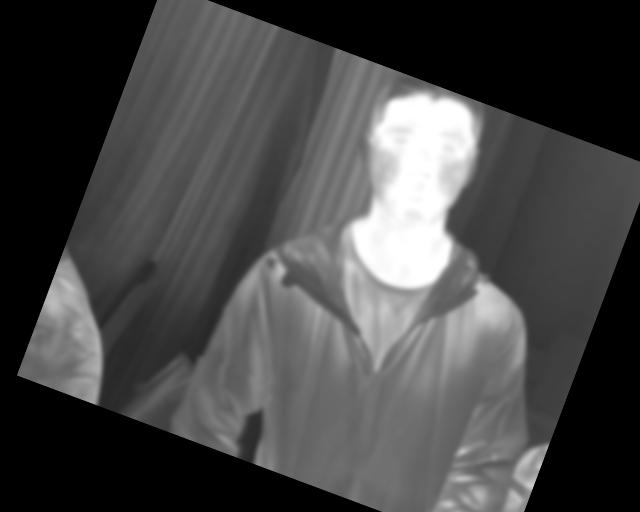face: (340, 68, 498, 238)
